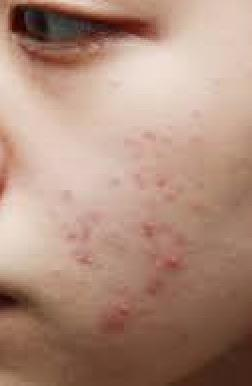fore: (137, 214, 163, 241), (136, 279, 165, 303), (164, 251, 186, 272), (160, 184, 183, 204), (172, 230, 198, 247), (118, 300, 139, 320), (109, 315, 127, 337), (74, 253, 95, 271), (132, 167, 147, 191), (79, 222, 95, 243), (63, 225, 79, 244), (58, 183, 77, 199), (194, 196, 208, 216), (148, 254, 163, 271), (107, 175, 122, 191), (87, 211, 104, 224)
